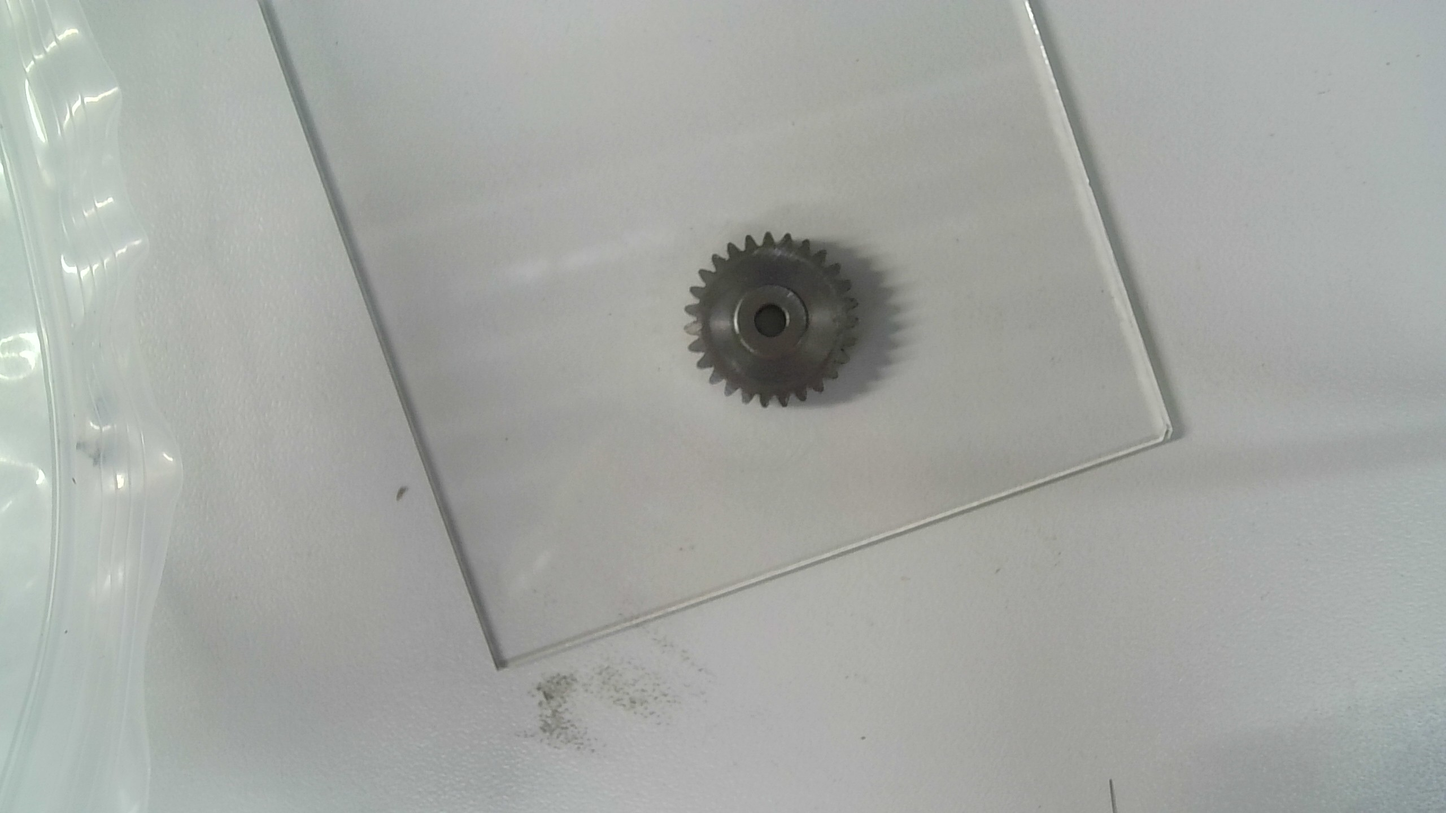gear: (680, 230, 862, 410)
